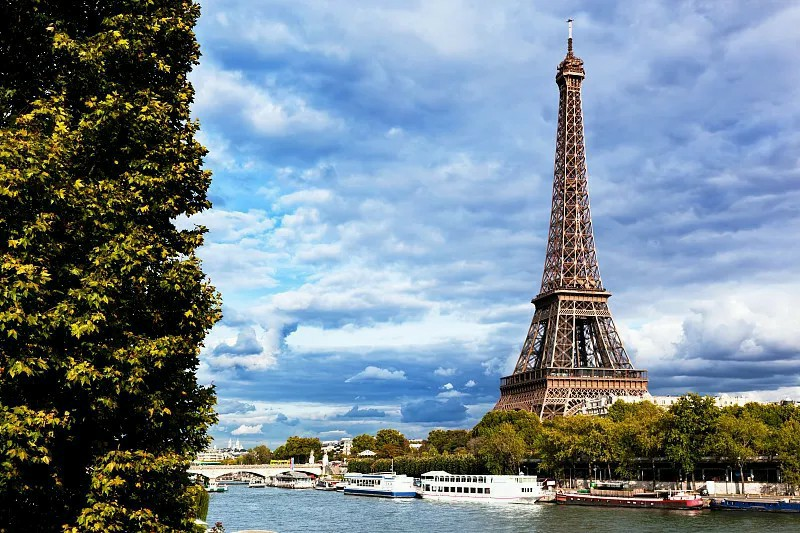Eiffel: (493, 19, 656, 422)
